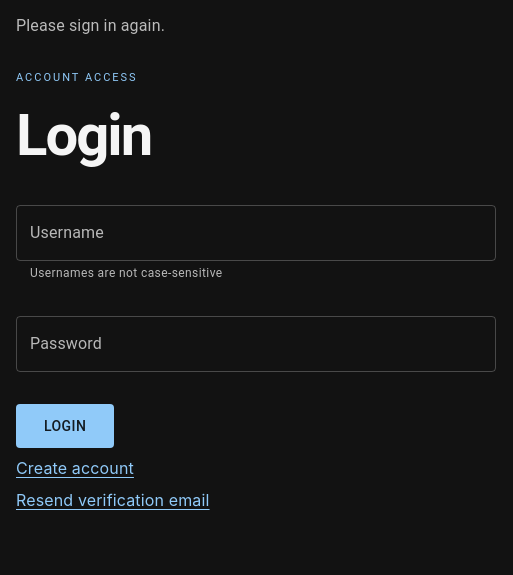
Scenario: login reports connectivity errors and credential change notices
Expected: the text "Please sign in again." is shown, [16,16,165,35]
What coordinates should you click on to do the following:
click the button "Login"
I would click on:
 (65, 426)
Its box is [16,404,114,448].
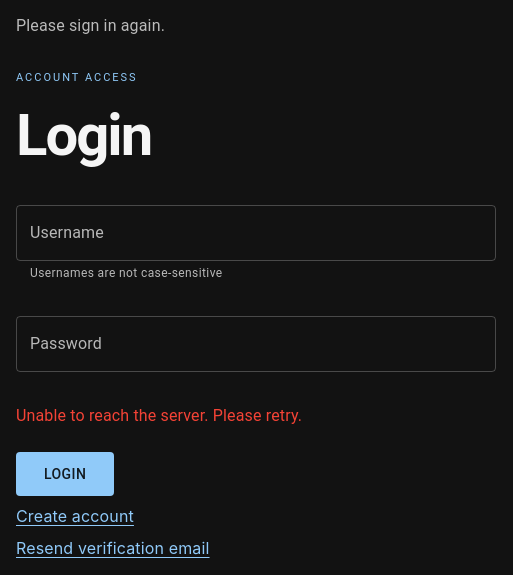
Result: the text "Unable to reach the server. Please retry." is shown at [16,406,302,425]
